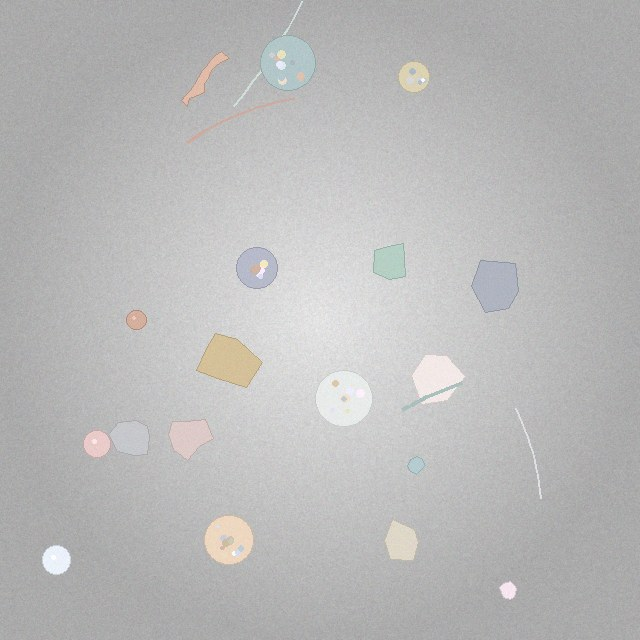fiber: (231, 0, 305, 110), (183, 95, 298, 147), (513, 405, 543, 502), (398, 379, 466, 415)
film: (181, 51, 229, 107)
foam: (316, 371, 372, 427), (260, 35, 315, 90), (204, 515, 254, 564), (237, 248, 277, 289), (399, 61, 430, 92)
fragment: (197, 333, 263, 388), (412, 354, 465, 404), (471, 260, 518, 312), (168, 420, 213, 461), (109, 420, 149, 456), (385, 519, 418, 560), (373, 244, 406, 279), (407, 456, 425, 475), (499, 582, 516, 599)
pellet: (42, 546, 71, 575), (83, 431, 110, 458), (127, 310, 146, 330)
